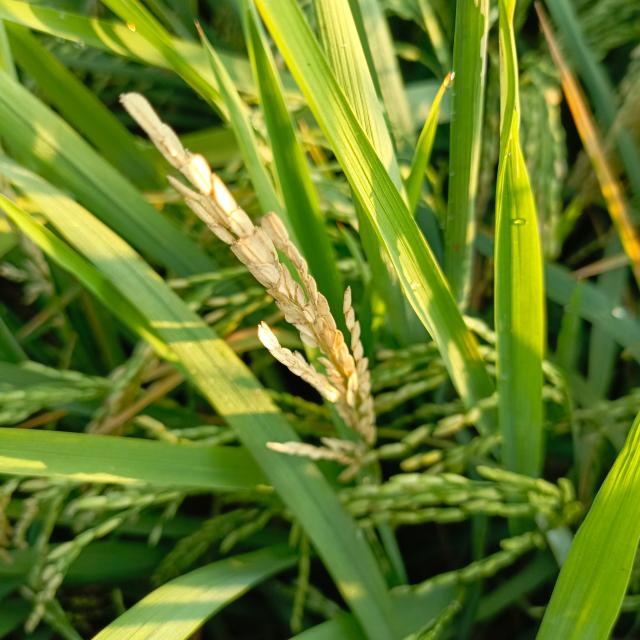Bacterial leaf blight: (469, 0, 494, 103)
